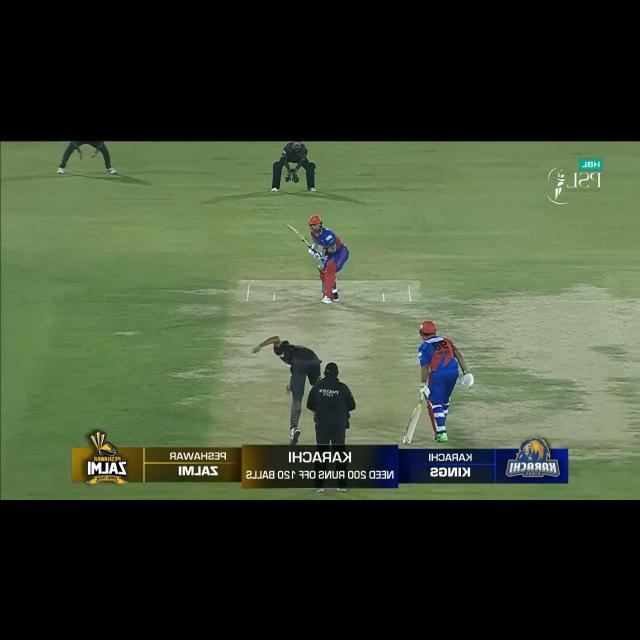bat: (284, 222, 313, 250), (402, 407, 420, 446)
toe: (400, 432, 414, 446), (284, 220, 294, 233)
